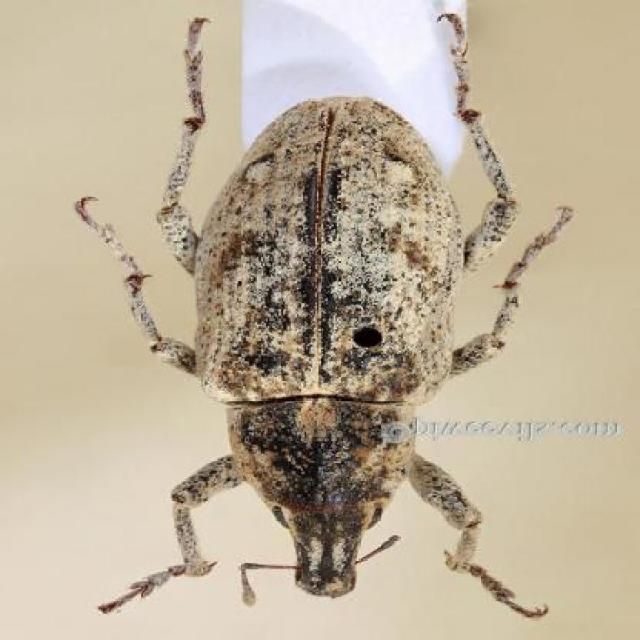rice-bug: (114, 12, 546, 614)
